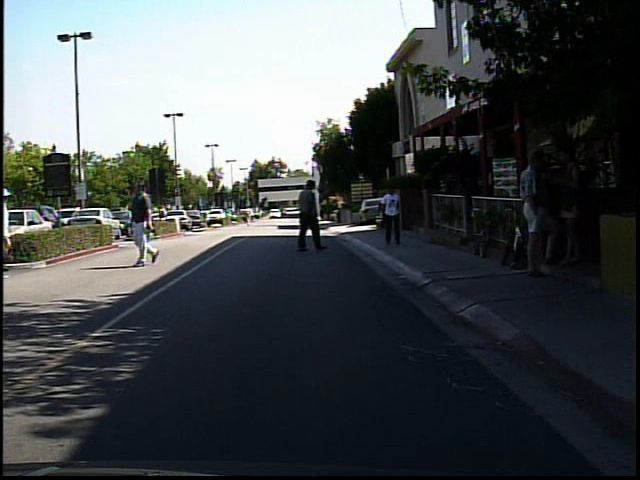person: (517, 141, 560, 279), (549, 143, 588, 273), (127, 179, 164, 271), (292, 174, 333, 254), (374, 179, 407, 248), (2, 182, 23, 274), (156, 200, 173, 232), (242, 204, 257, 228)
